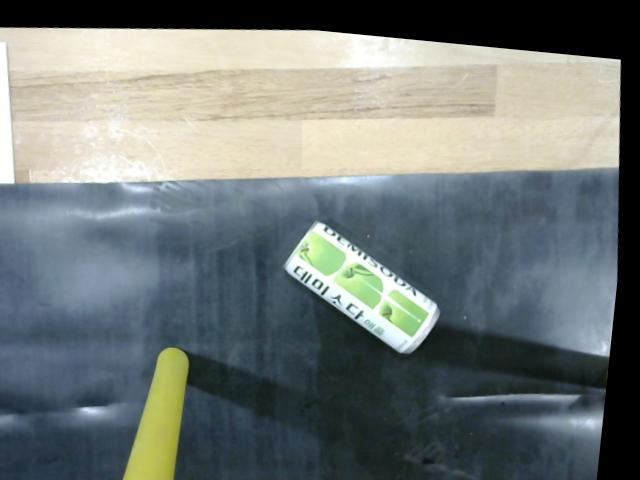can: (280, 203, 458, 351)
